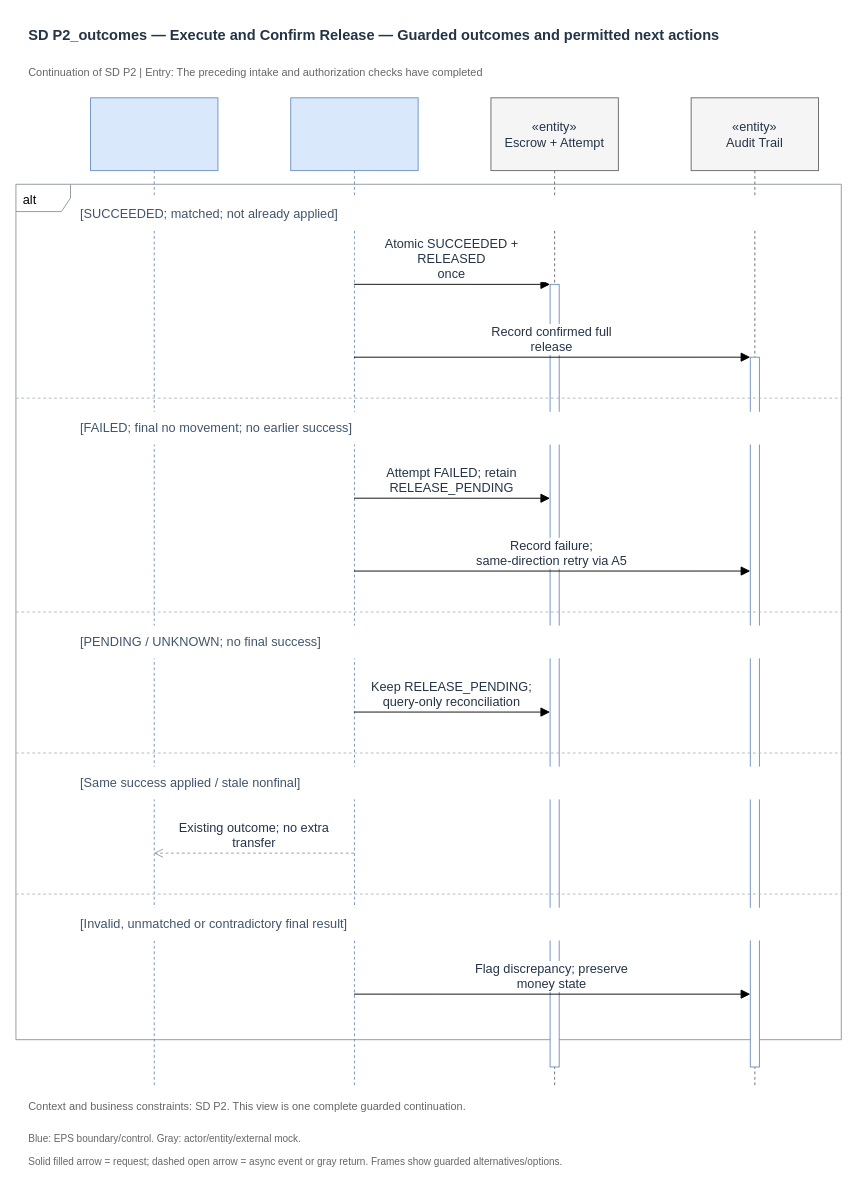
Some shapes in this 862 by 1190 pixel diagram are drawn without their labels. Each missing label, with the centre of its shape:
"«boundary» Payment Boundary" goes at (154,591).
"«control» Payment Control" goes at (354,591).
